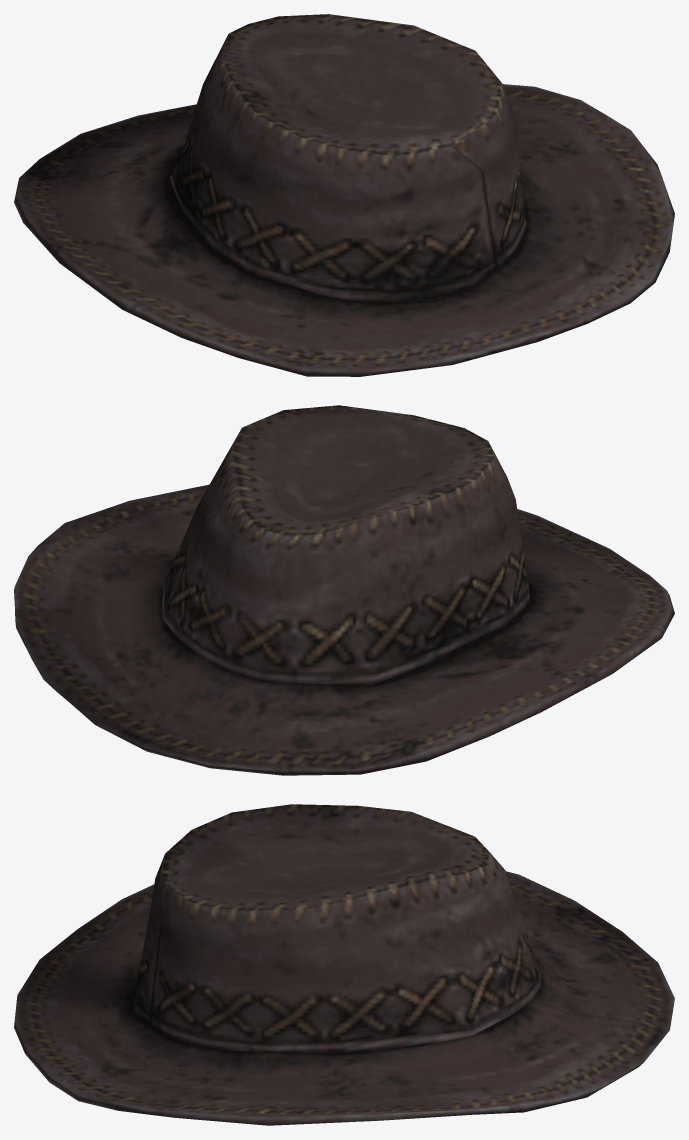
File: ManhunterHat_Ground.fbx
3 renders of one model, top to bottom at view 1: azimuth 30°, elevation 25°; view 2: azimuth 150°, elevation 25°; view 3: azimuth 270°, elevation 25°, orthographic.
Parts seen in each view (by area): view 1: cross_mo_mat01_hat_adjusted; view 2: cross_mo_mat01_hat_adjusted; view 3: cross_mo_mat01_hat_adjusted.
Boxes of the visible parts, left/top/right/bottom form: cross_mo_mat01_hat_adjusted: left=14, top=14, right=674, bottom=376; cross_mo_mat01_hat_adjusted: left=14, top=405, right=674, bottom=775; cross_mo_mat01_hat_adjusted: left=14, top=804, right=674, bottom=1125.
Size of the model in its own units: 0.1938 by 0.058 by 0.2003.
